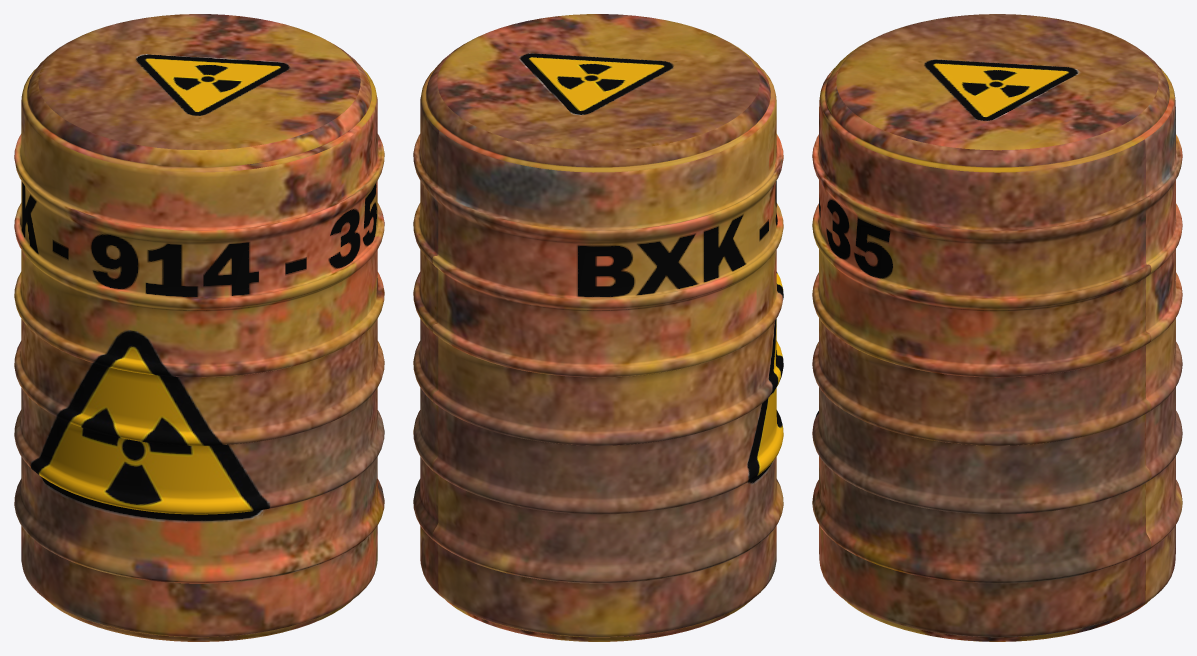
The model's file is barrel .fbx.
3 renders of one model, left to right at view 1: azimuth 30°, elevation 25°; view 2: azimuth 150°, elevation 25°; view 3: azimuth 270°, elevation 25°, orthographic.
Visible parts, largest first — view 1: Cylinder; view 2: Cylinder; view 3: Cylinder.
Boxes of the visible parts, x1,y1,x2,y2 form: Cylinder: [14, 14, 384, 641]; Cylinder: [413, 14, 783, 641]; Cylinder: [812, 14, 1182, 641].
Size of the model in its own units: 206 by 302 by 206.
1 material, 1 textured.
